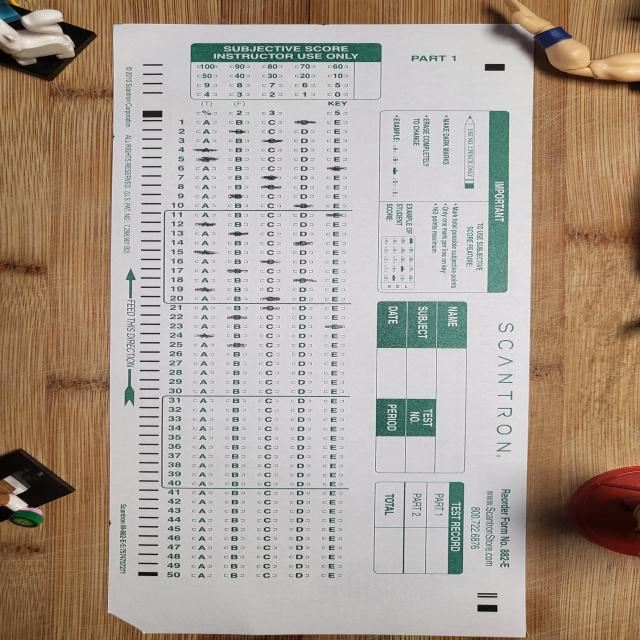scantron: (107, 23, 537, 623)
